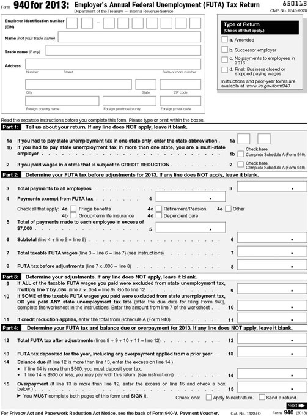checkbox: (220, 54, 229, 64), (69, 210, 78, 220), (204, 392, 214, 401), (220, 34, 229, 43), (220, 44, 229, 53), (220, 65, 229, 74), (236, 149, 245, 158), (236, 159, 245, 168), (224, 203, 233, 212), (154, 203, 163, 212), (154, 210, 163, 219), (69, 203, 78, 212), (258, 392, 267, 401)
textbox: (24, 57, 202, 70), (44, 43, 203, 56), (56, 29, 202, 43), (24, 77, 133, 91), (155, 188, 228, 203), (155, 220, 228, 235), (236, 229, 308, 244), (236, 243, 308, 258), (236, 257, 308, 272), (236, 297, 308, 312), (236, 366, 308, 381), (236, 179, 308, 193), (236, 281, 308, 295), (236, 310, 308, 324), (236, 330, 308, 344), (236, 344, 308, 358), (236, 379, 308, 393), (24, 94, 100, 107), (102, 94, 158, 107), (159, 77, 202, 91), (158, 94, 202, 107), (135, 77, 158, 91), (236, 132, 253, 146), (256, 132, 273, 146), (160, 15, 174, 29), (174, 15, 188, 29), (188, 16, 202, 30), (131, 16, 145, 29), (65, 17, 79, 29), (80, 17, 94, 29), (102, 17, 116, 29), (116, 17, 130, 29), (145, 17, 159, 29)
